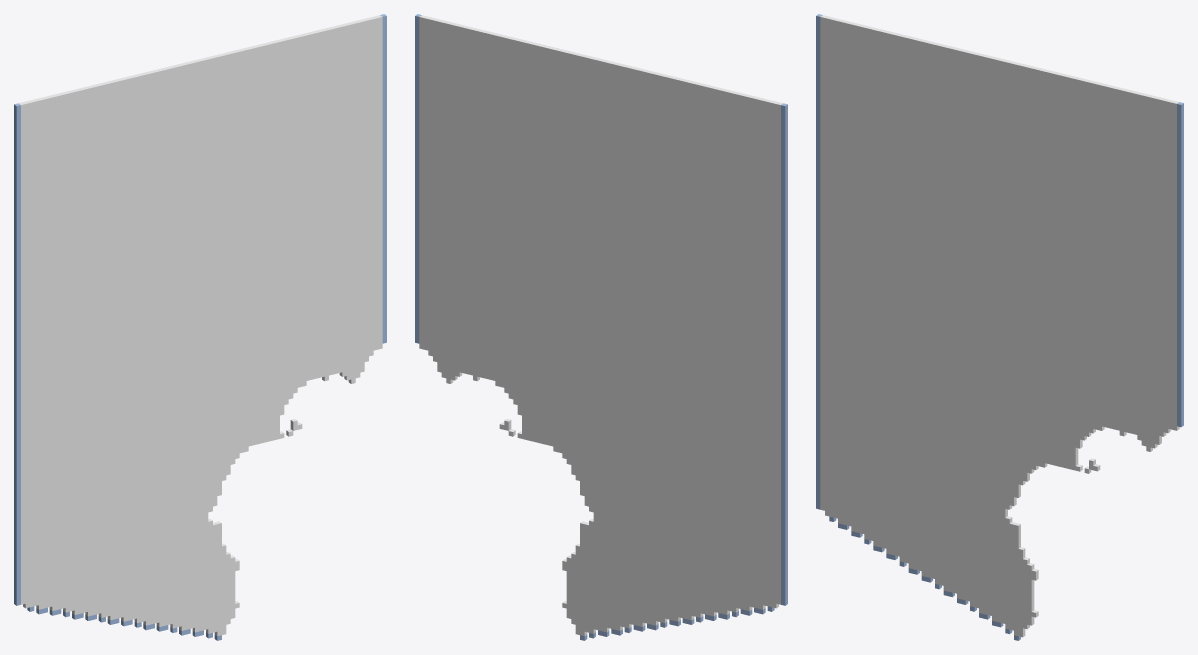
File: Fight_101_3_05_fx.obj
3 renders of one model, left to right at view 1: azimuth 30°, elevation 25°; view 2: azimuth 150°, elevation 25°; view 3: azimuth 330°, elevation 25°, orthographic.
Bounding box in the file's own units: 8.3 × 12.5 × 0.1.
1 material, 1 textured.
